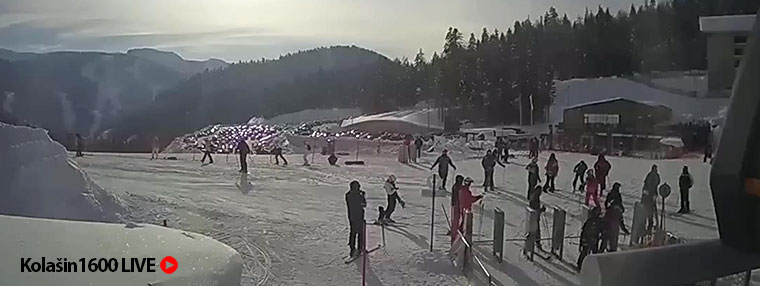skier: (342, 181, 388, 266), (460, 174, 490, 245), (529, 186, 554, 261), (234, 137, 258, 174), (485, 148, 502, 193)
